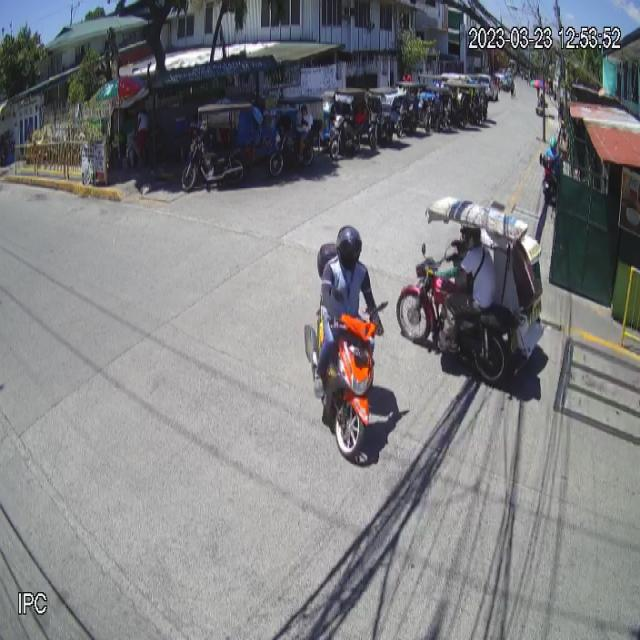Motorcycle: (304, 283, 391, 462)
Tricycle: (396, 195, 545, 386)
